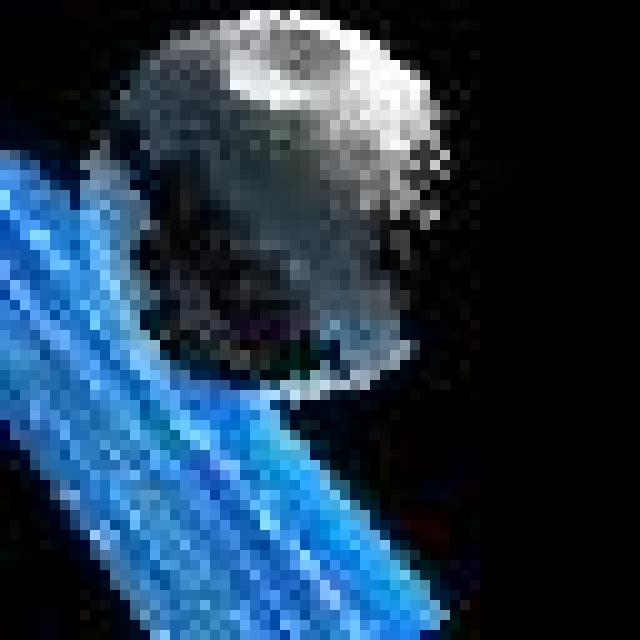Death Star: (86, 11, 491, 399)
